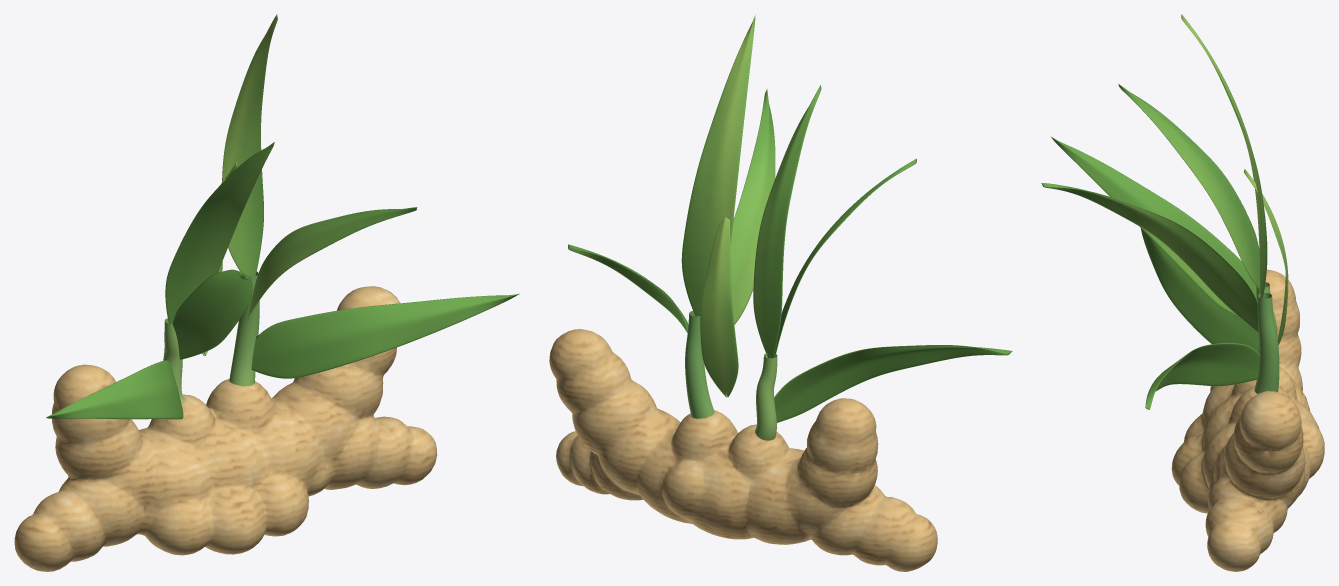
The model's file is jahe.glb.
3 views of the same model, side by side, from view 1: azimuth 30°, elevation 25°; view 2: azimuth 150°, elevation 25°; view 3: azimuth 270°, elevation 25° (orthographic). The views are drawn at different scales.
Parts seen in each view (by area): view 1: Rhizome_Jahe, Leaves, Stems; view 2: Rhizome_Jahe, Leaves, Stems; view 3: Leaves, Rhizome_Jahe, Stems.
Part boxes in pixels (x1,y1,x2,y2): Rhizome_Jahe: [14, 286, 437, 571]; Leaves: [46, 14, 519, 419]; Stems: [163, 271, 259, 404]; Rhizome_Jahe: [549, 329, 937, 571]; Leaves: [568, 14, 1012, 422]; Stems: [685, 311, 777, 440]; Leaves: [1041, 14, 1288, 409]; Rhizome_Jahe: [1171, 269, 1324, 571]; Stems: [1254, 282, 1279, 393].
Size of the model in its own units: 5.57 by 5.97 by 3.11.
3 materials, 3 textured.
